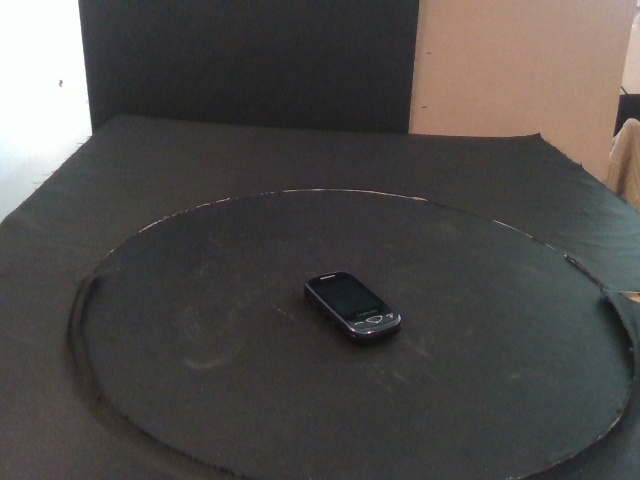phone: (303, 270, 403, 346)
